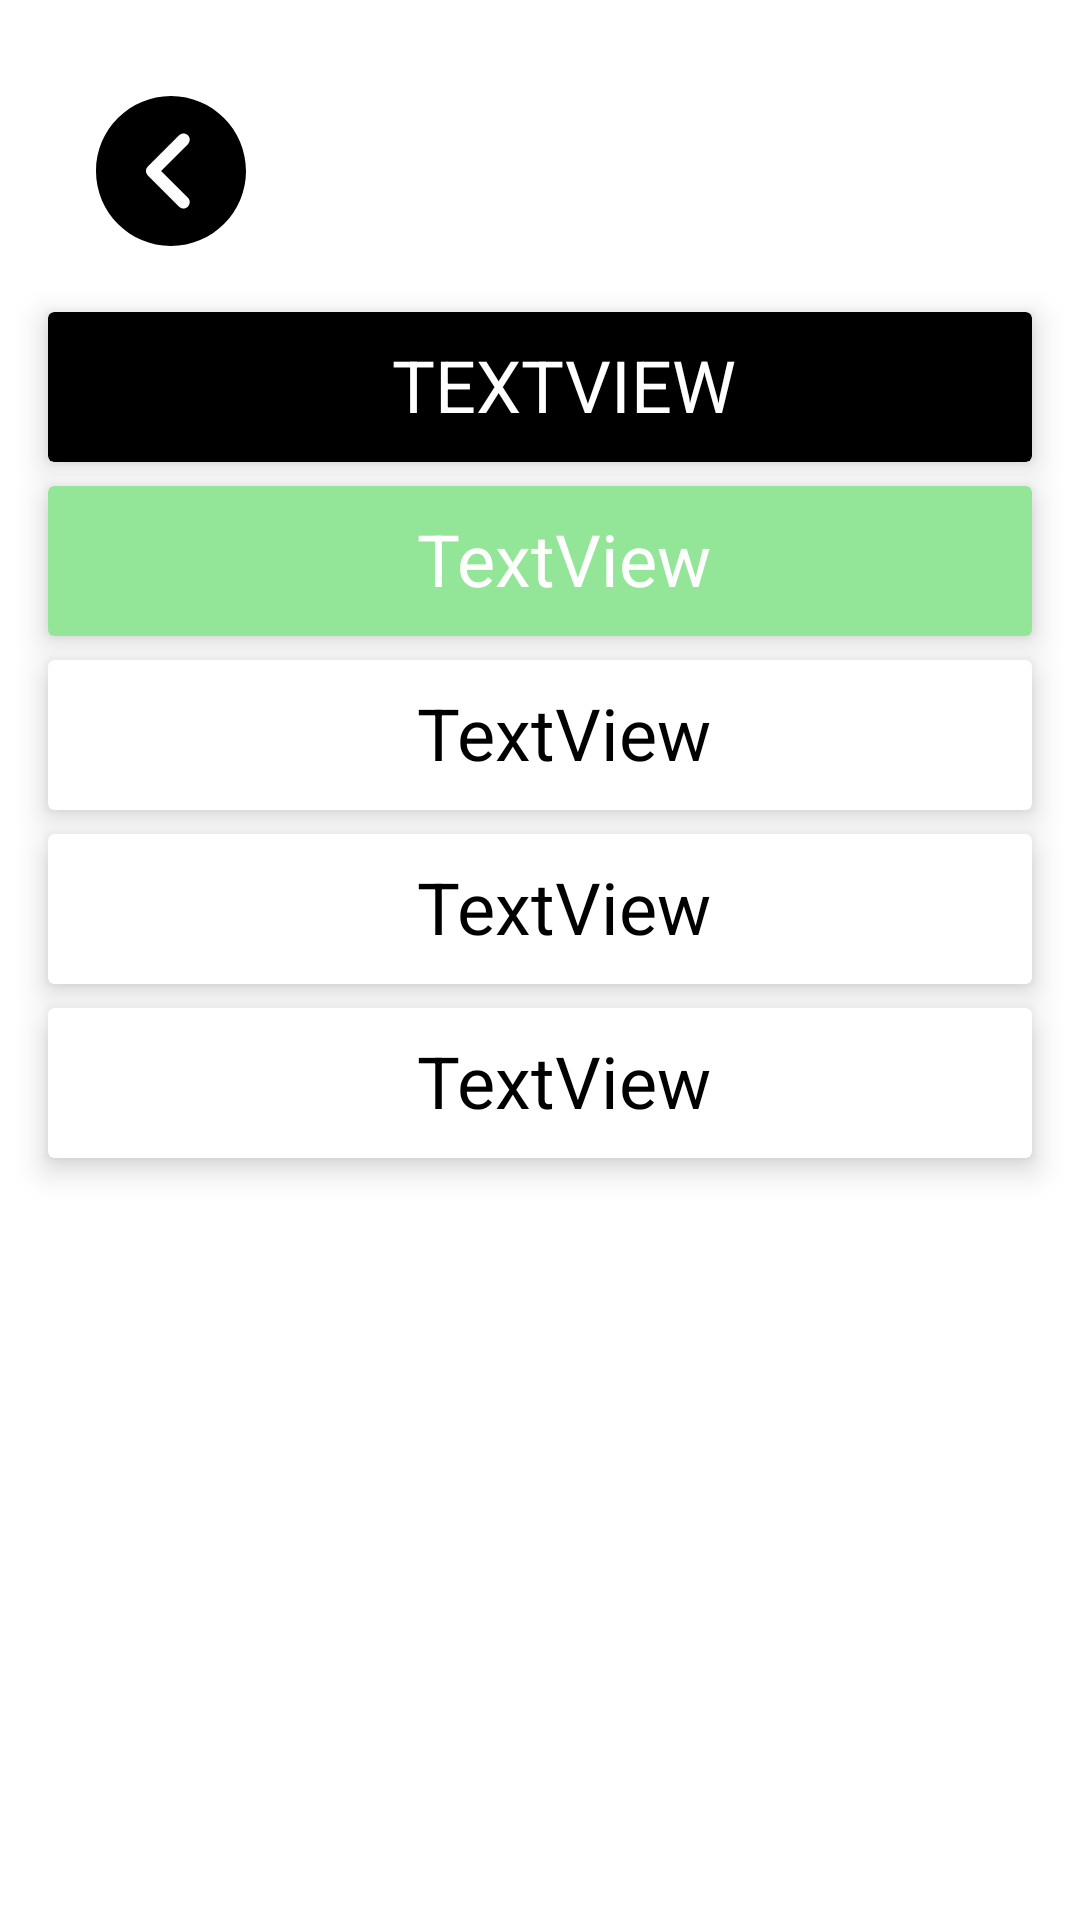

Where to tap for icons on this 1080 × 1920 app screen, as [x,y]:
left arrow: [171,171]
